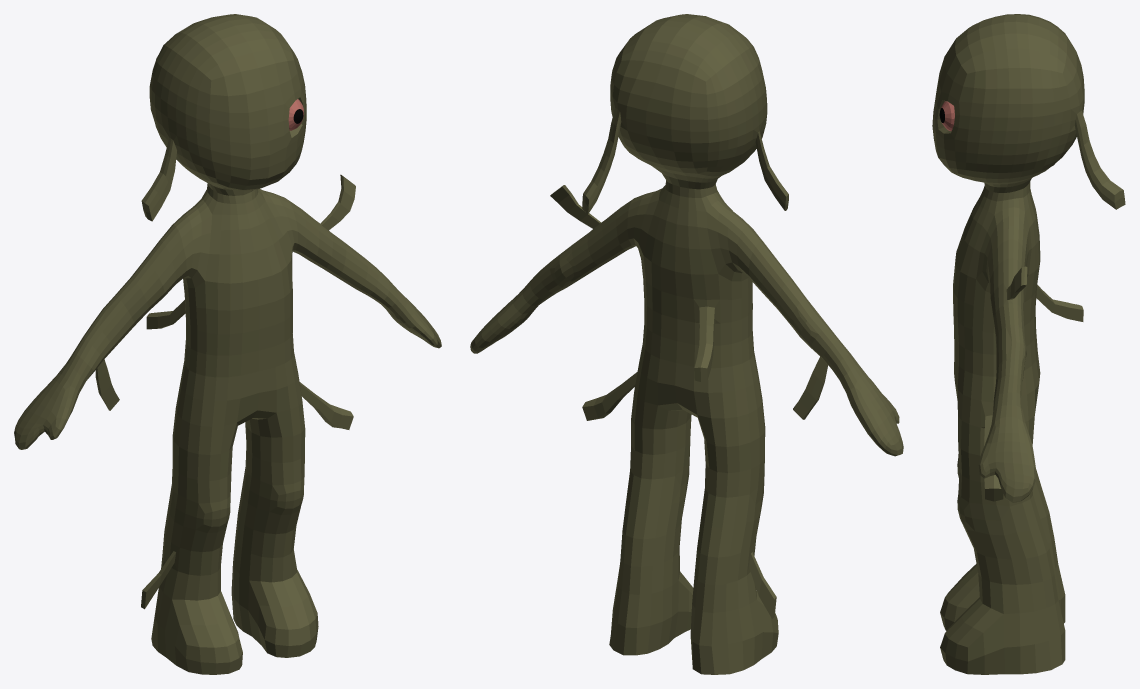
Rendered from MumiaInimigo.fbx.
3 renders of one model, left to right at view 1: azimuth 30°, elevation 25°; view 2: azimuth 150°, elevation 25°; view 3: azimuth 270°, elevation 25°, orthographic.
Parts seen in each view (by area): view 1: MumiaInimigo; view 2: MumiaInimigo; view 3: MumiaInimigo.
Boxes of the visible parts, x1=… form: MumiaInimigo: x1=14, y1=14, x2=441, y2=674; MumiaInimigo: x1=470, y1=14, x2=903, y2=674; MumiaInimigo: x1=932, y1=14, x2=1125, y2=674.
Bounding box in the file's own units: 124 × 173 × 48.79.
